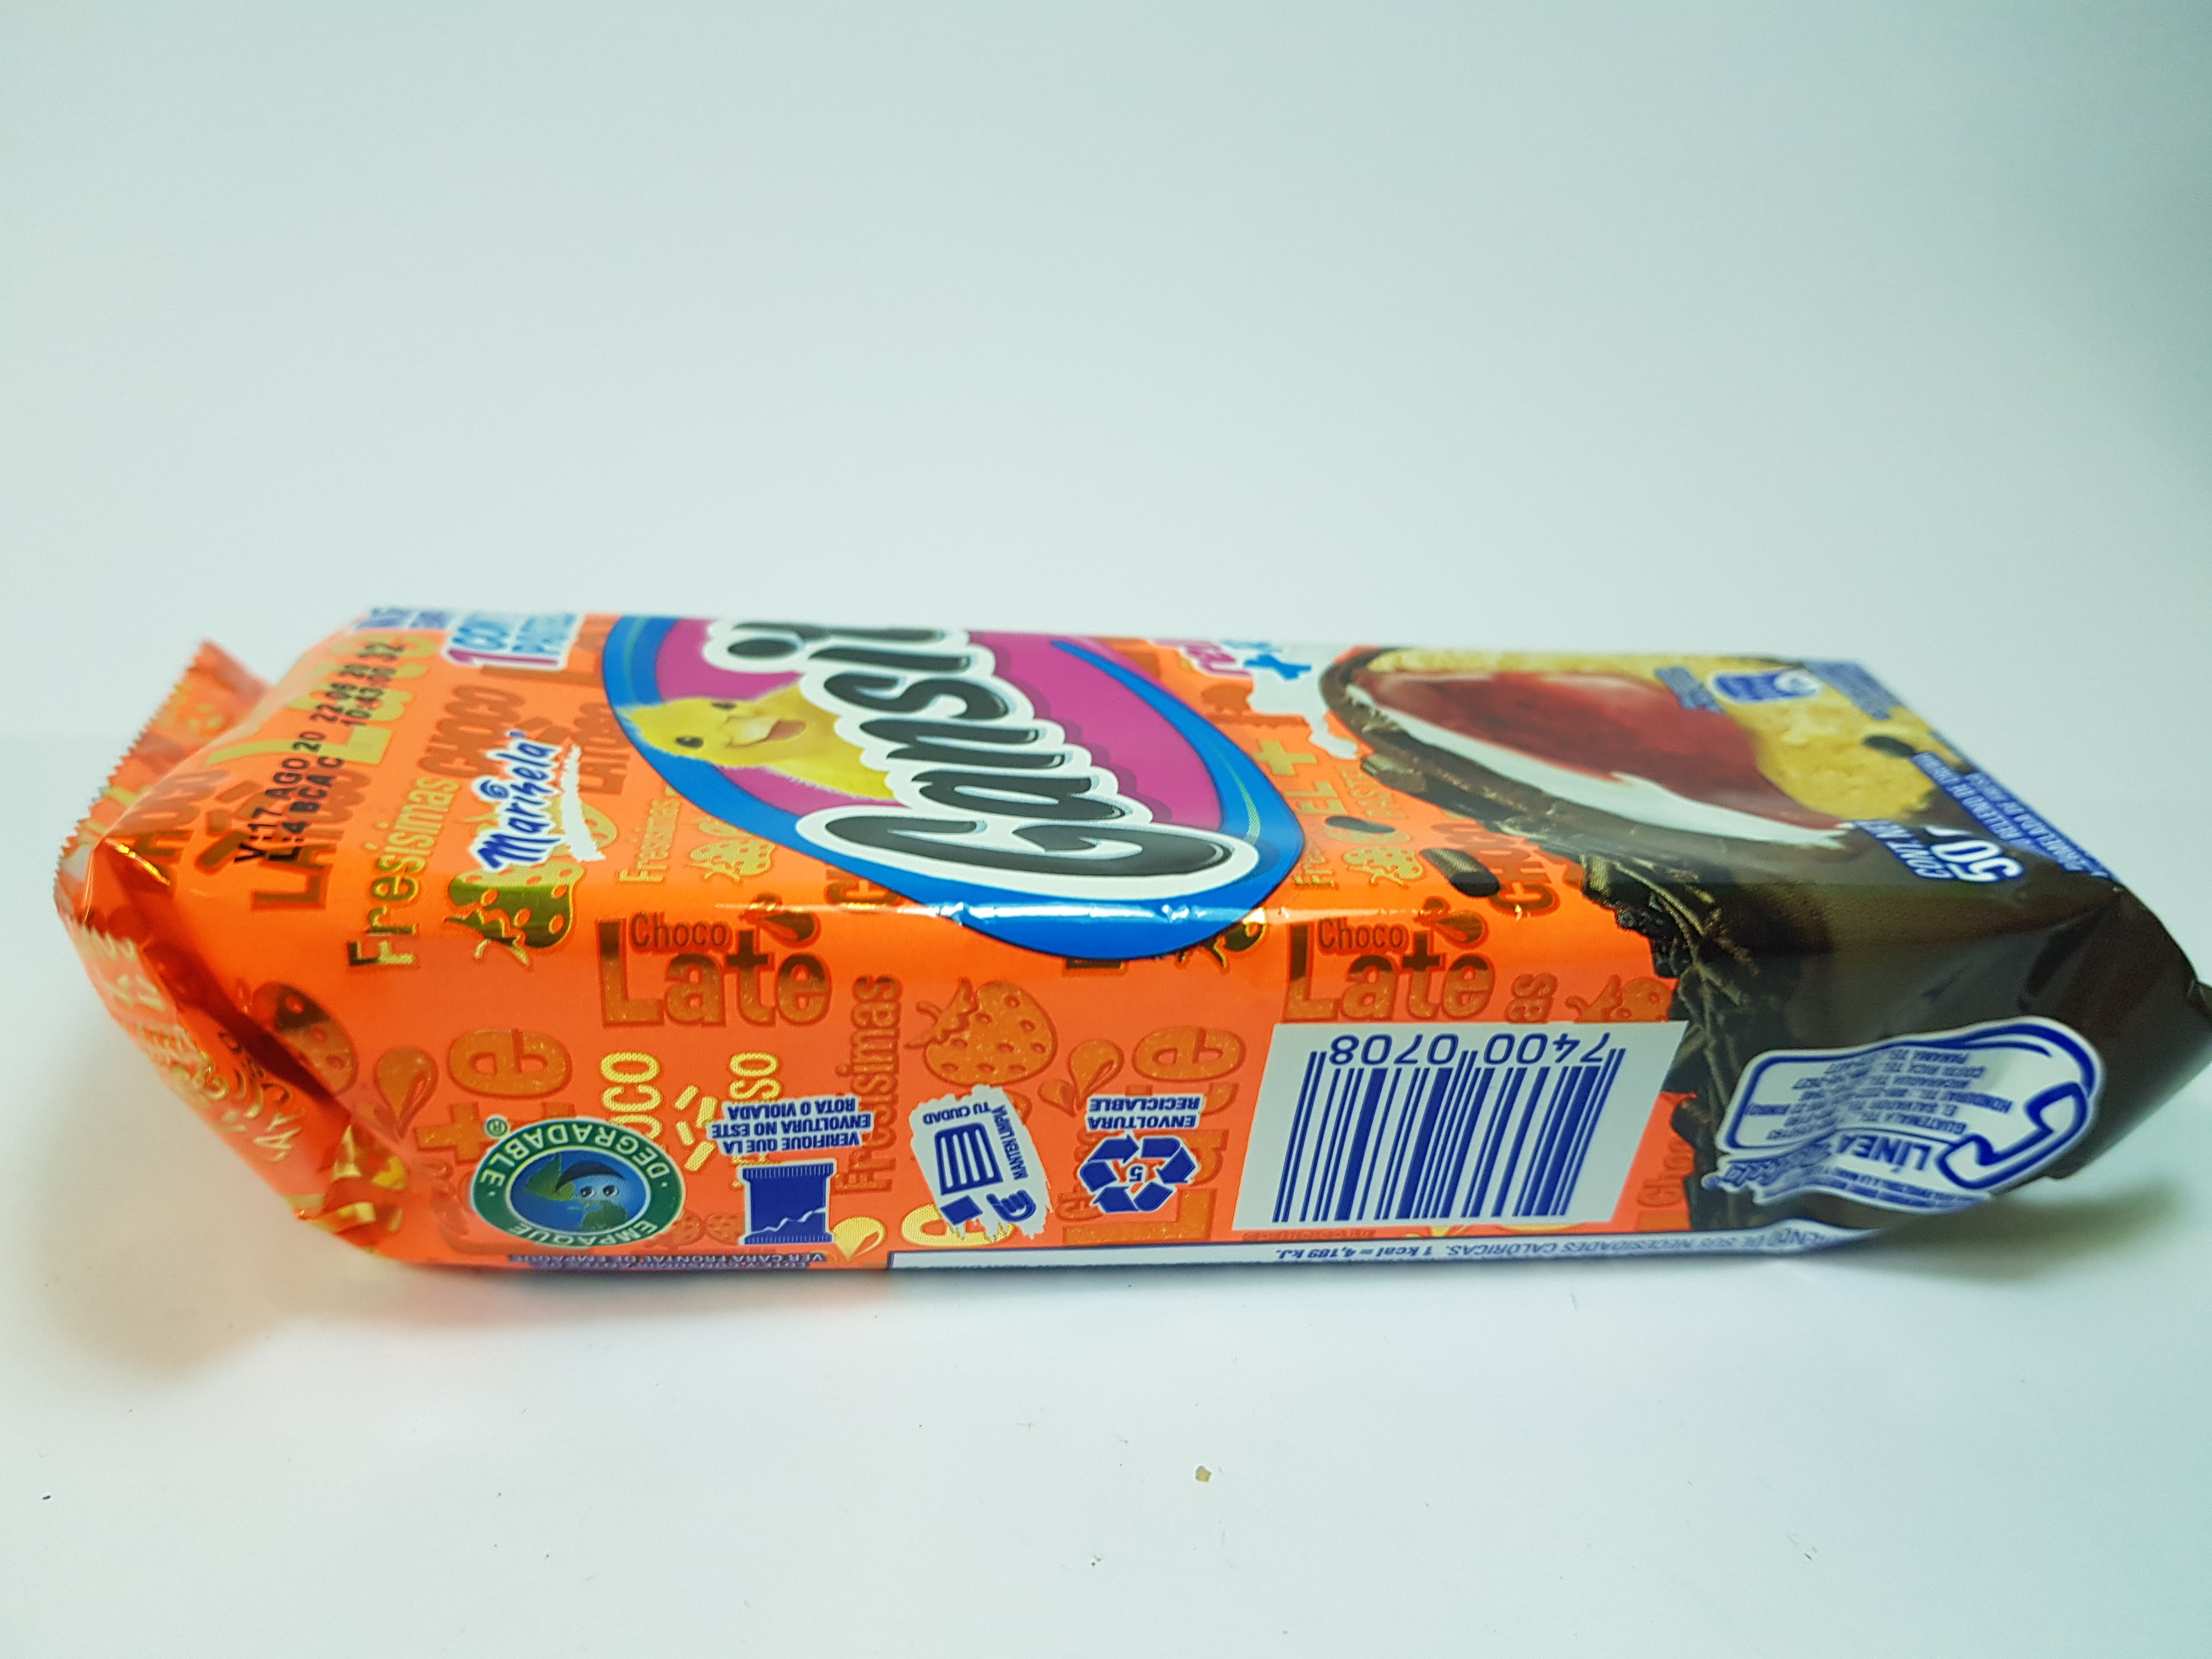gansito: (38, 565, 2212, 1304)
